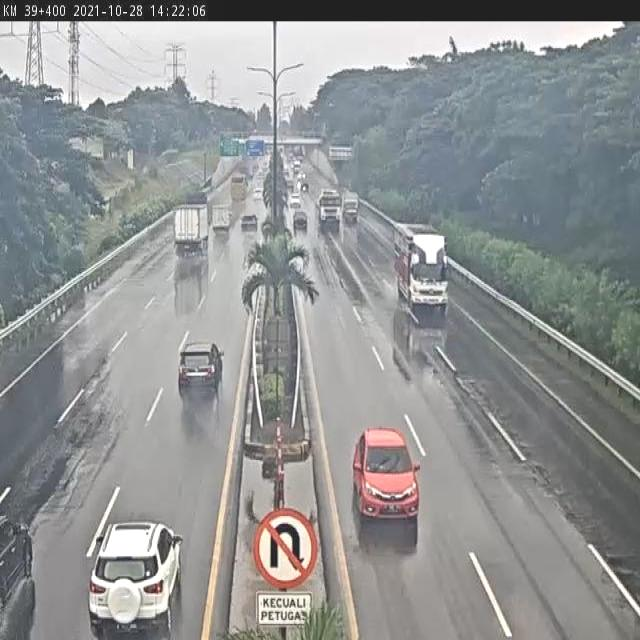Bus: (229, 173, 248, 201)
Car: (87, 520, 183, 638), (351, 426, 423, 522), (0, 513, 35, 613), (178, 339, 225, 397), (240, 212, 258, 231), (292, 210, 308, 231), (289, 191, 301, 209), (253, 186, 262, 201)
Truck: (391, 221, 449, 312), (172, 202, 210, 255), (317, 188, 342, 225), (341, 190, 361, 223), (211, 205, 233, 232)
